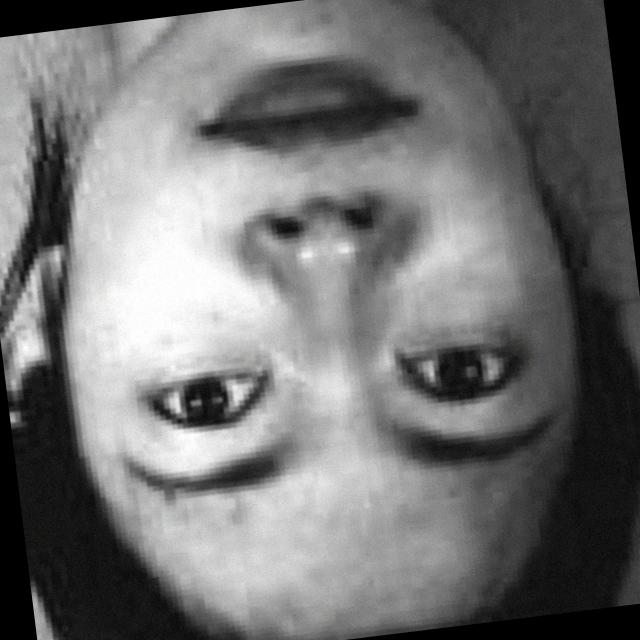fear: (58, 0, 605, 602)
